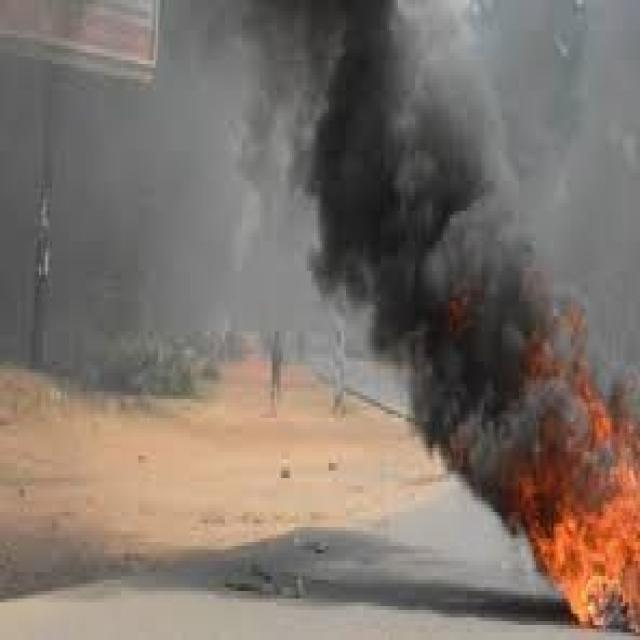Fire: (520, 411, 640, 624), (524, 329, 557, 382)
Smoke: (0, 0, 372, 346), (310, 0, 640, 288), (245, 0, 640, 176), (371, 288, 640, 409), (426, 408, 520, 536)
